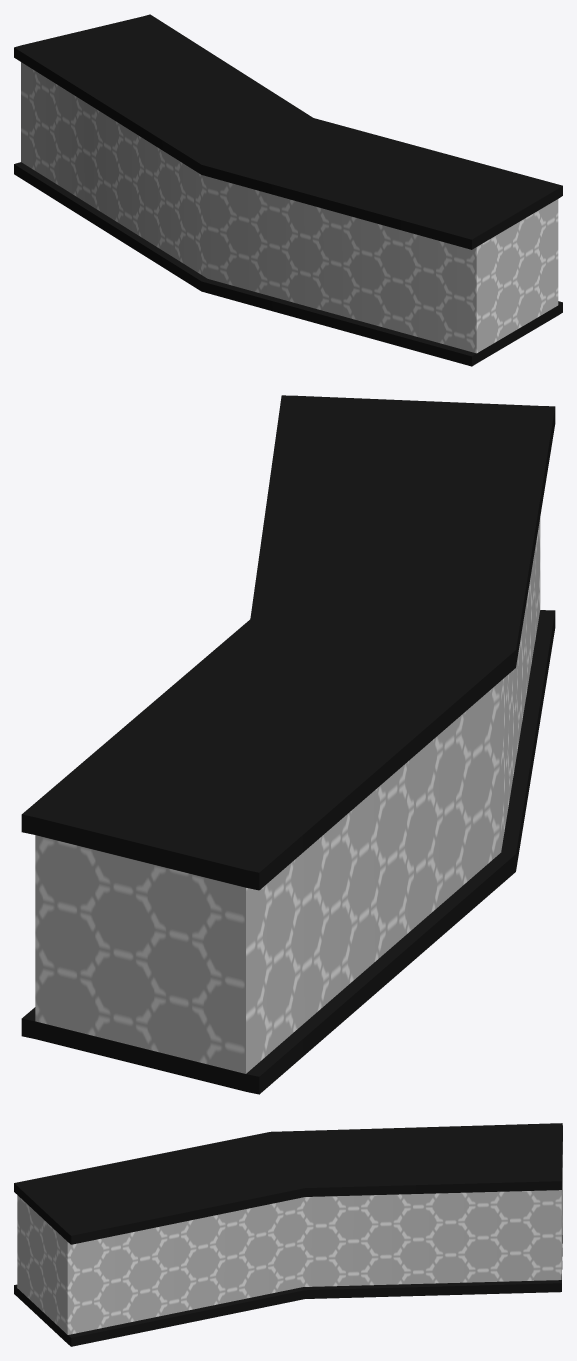
Rendered from wall_45_New.fbx.
3 views of the same model, one above another, from view 1: azimuth 30°, elevation 25°; view 2: azimuth 150°, elevation 25°; view 3: azimuth 270°, elevation 25° (orthographic). The views are drawn at different scales.
Parts seen in each view (by area): view 1: wall_45; view 2: wall_45; view 3: wall_45.
Boxes of the visible parts, box(x1,y1,x2,y2) form: wall_45: box(14, 14, 562, 366); wall_45: box(21, 395, 555, 1094); wall_45: box(14, 1123, 562, 1346).
Bounding box in the file's own units: 180 × 82.59 × 365.
